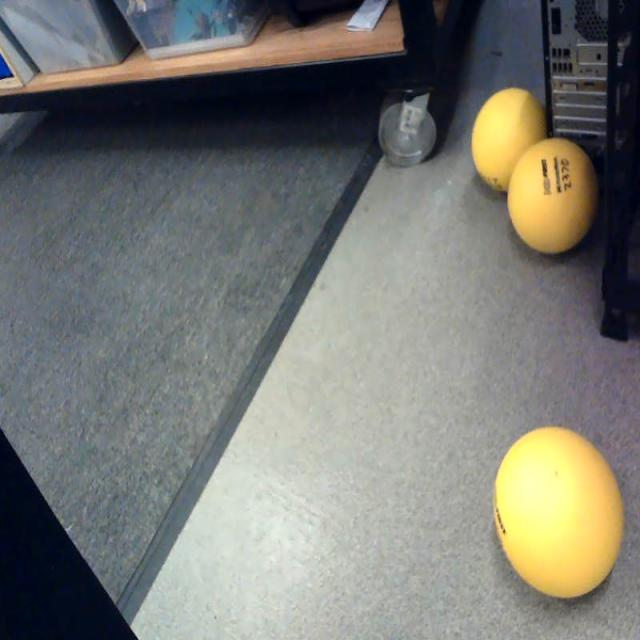Fuel: (494, 426, 626, 598), (508, 137, 598, 255), (472, 87, 548, 192)
